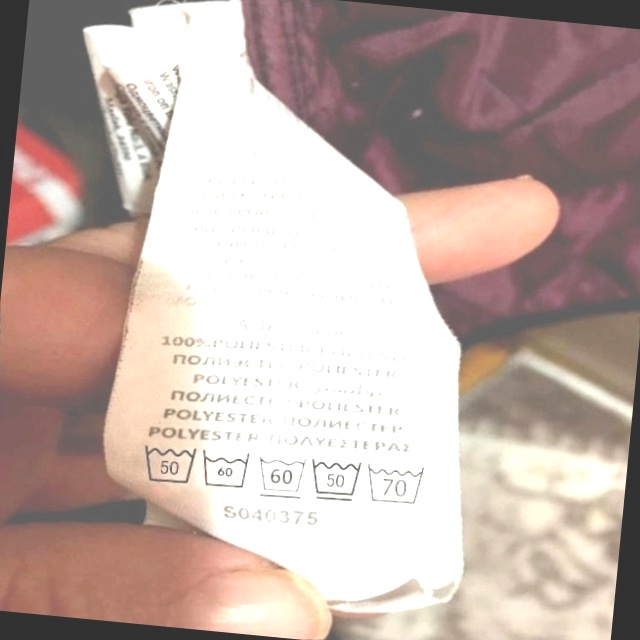50C: (134, 432, 204, 493), (304, 450, 369, 509)
60C: (253, 447, 314, 504), (196, 442, 258, 498)
70C: (363, 455, 435, 512)
